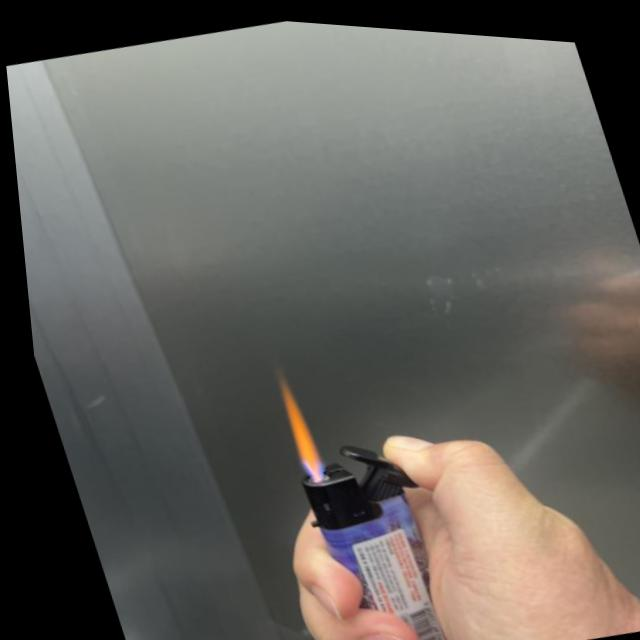Fire: (263, 366, 320, 476)
